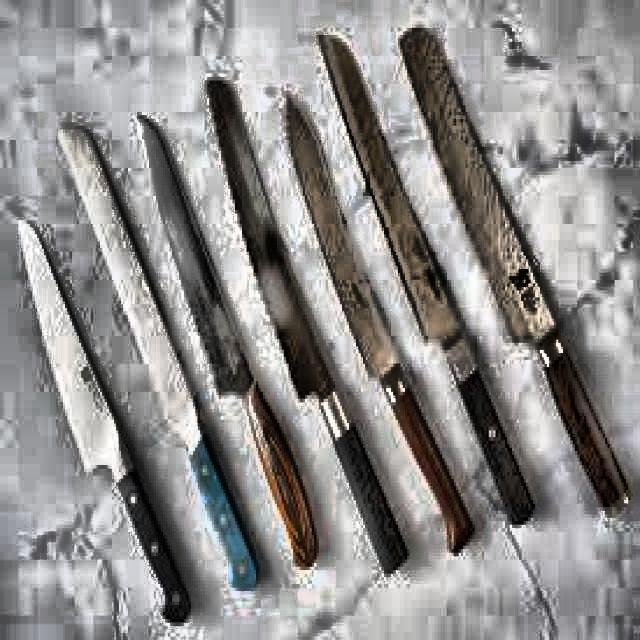knife: (390, 27, 636, 526), (320, 26, 538, 540), (201, 80, 415, 584), (57, 112, 266, 594), (282, 82, 479, 564), (127, 104, 324, 580), (14, 207, 188, 607)
